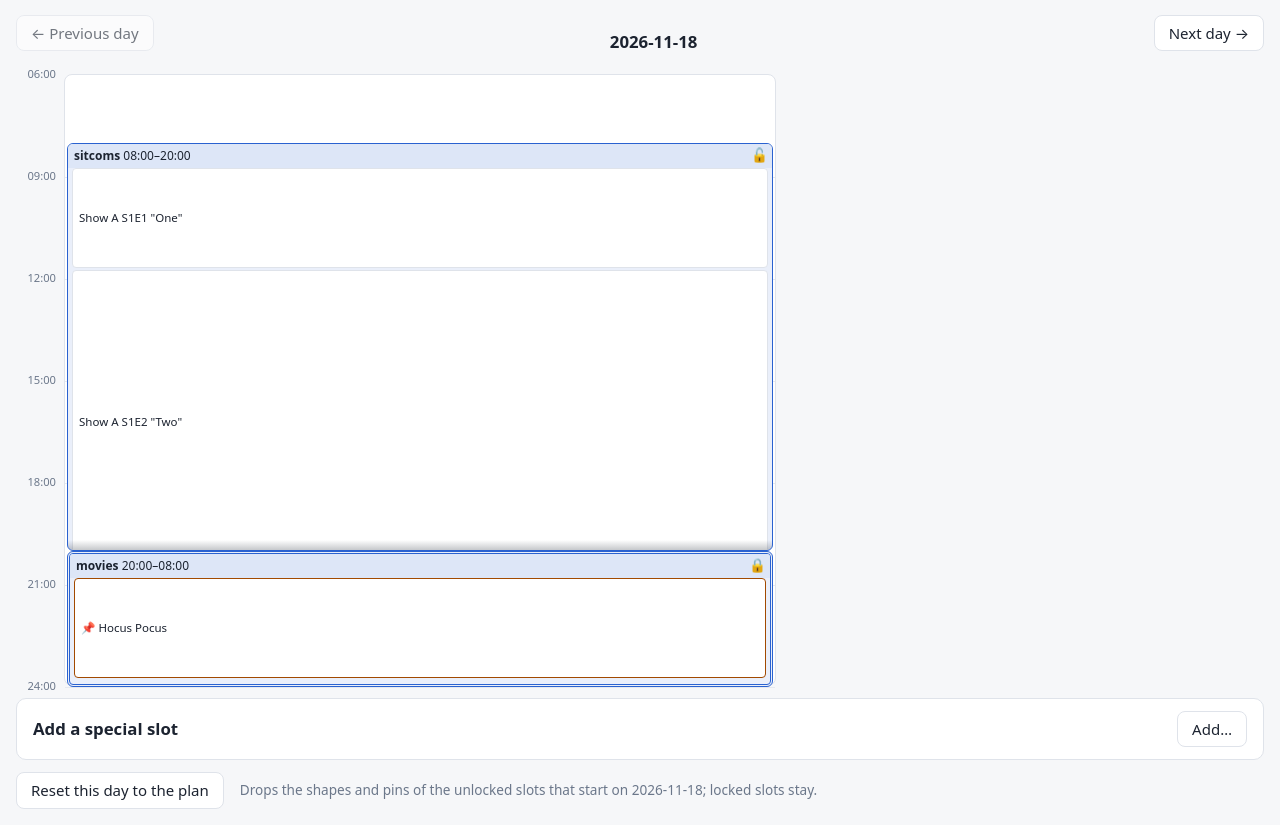
Test: the staging editor › refuses to change a locked slot, and tells how to
(page scrolled)
Click the button with aria-label "Block 1: Hocus Pocus, pinned". click: (133, 628)
box: [74,578,766,678]
(page scrolled)
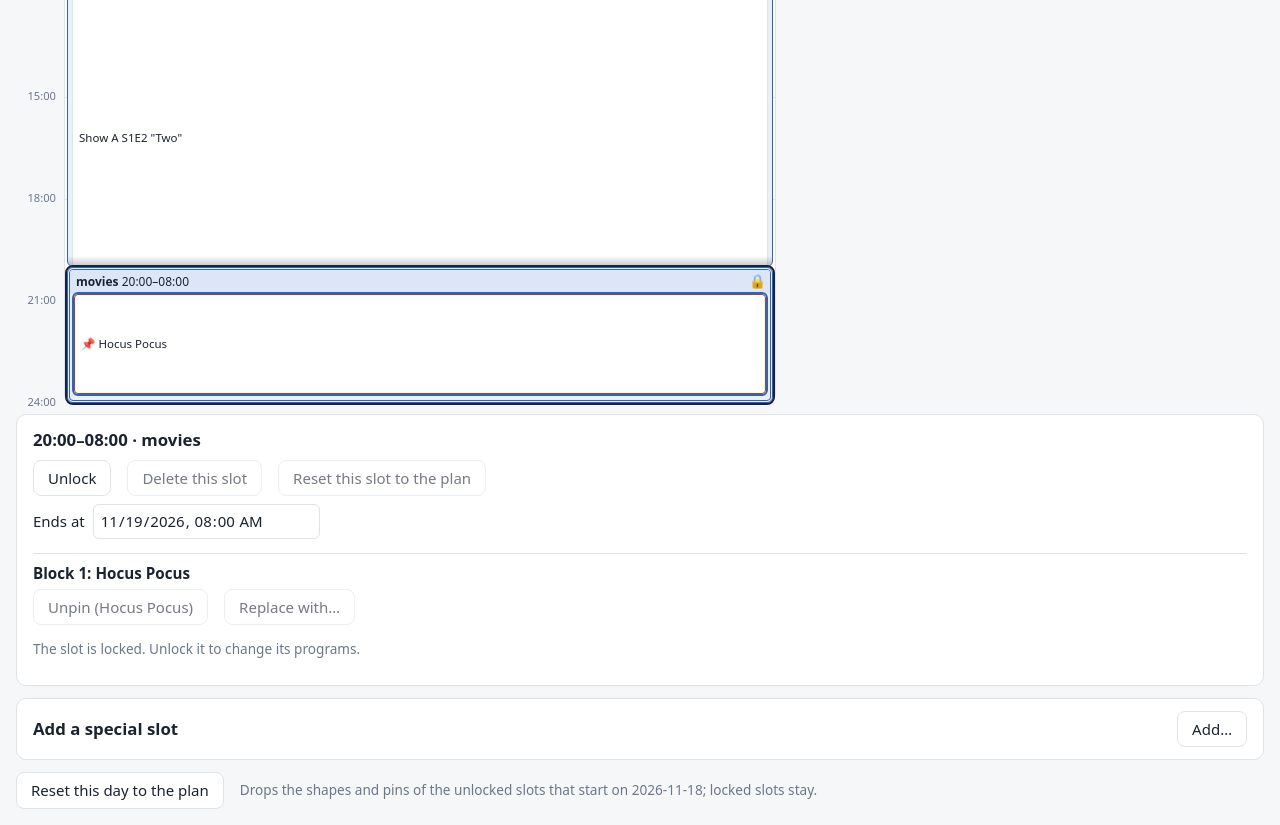
Result: the button "Delete this slot" is disabled at [127,460,262,496]
Result: the button "Replace with…" is disabled at [224,589,355,625]
Result: the text "The slot is locked. Unlock it to change its programs." is shown at [33,639,360,658]
